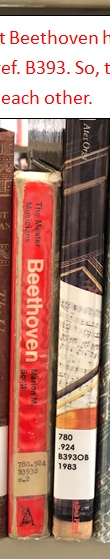call_number: (55, 426, 96, 499), (10, 454, 48, 496)
